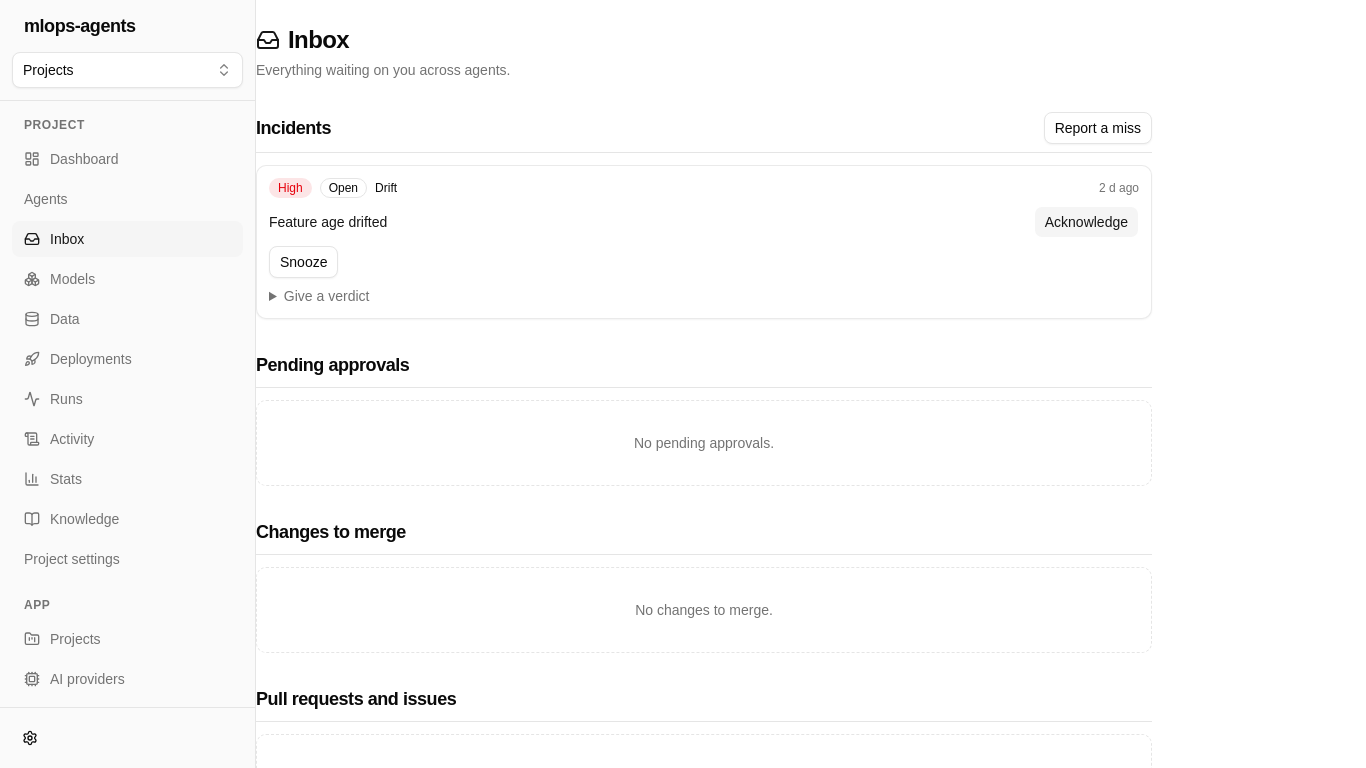
Test case: Inbox incidents section › shows the server's refusal when acknowledging fails
The image size is (1366, 768).
Click the button "Acknowledge".
click(1086, 222)  # box x1=1034 y1=206 x2=1139 y2=238
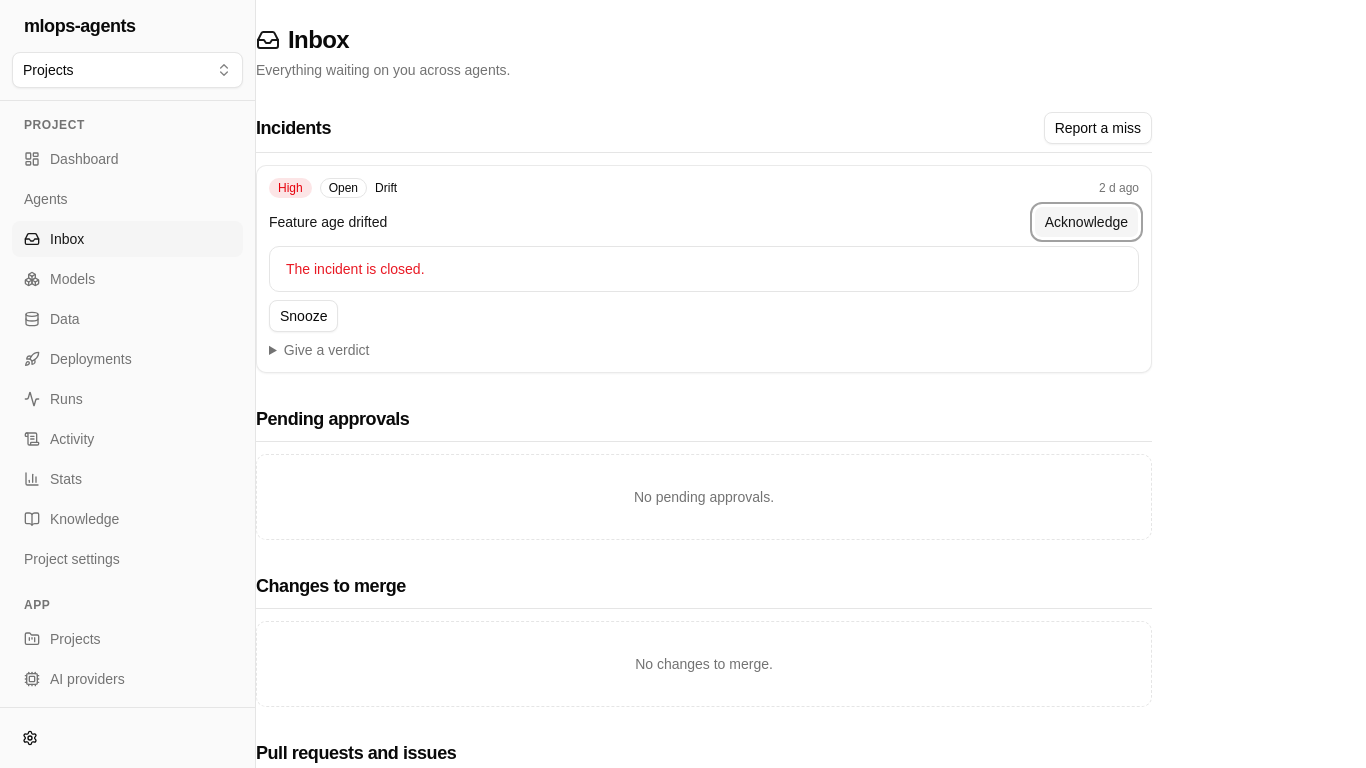
Result: the text "The incident is closed." is shown at x1=286 y1=261 x2=424 y2=277
